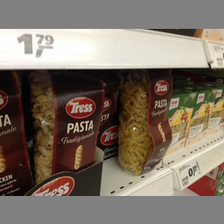pasta: (29, 71, 105, 183), (116, 71, 171, 176)
